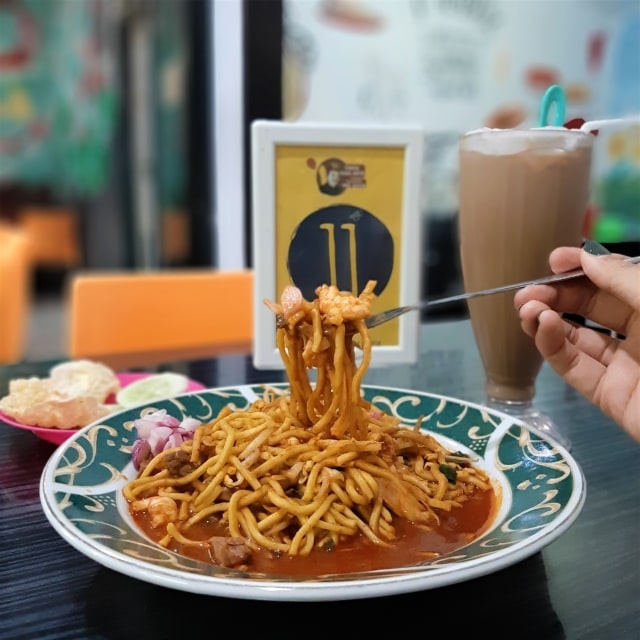mie_aceh: (136, 397, 497, 578)
